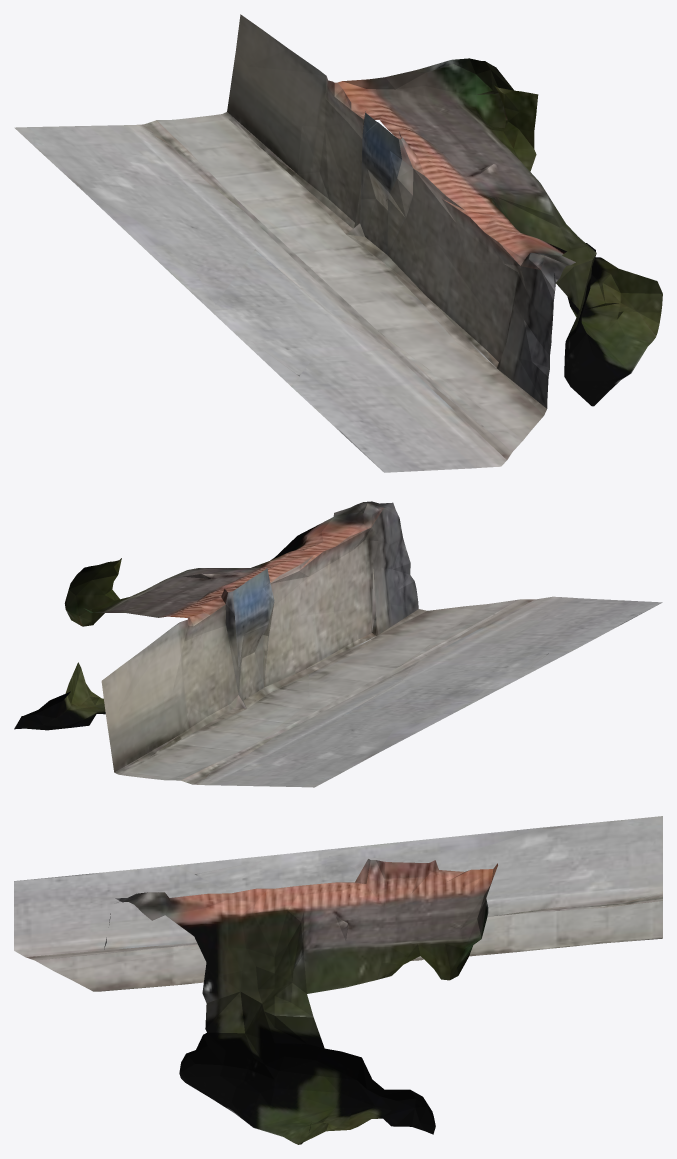
3 renders of one model, top to bottom at view 1: azimuth 30°, elevation 25°; view 2: azimuth 150°, elevation 25°; view 3: azimuth 270°, elevation 25°, orthographic. The views are drawn at different scales.
Bounding box in the file's own units: 9.41 × 4.53 × 13.4.
2 materials, 2 textured.
